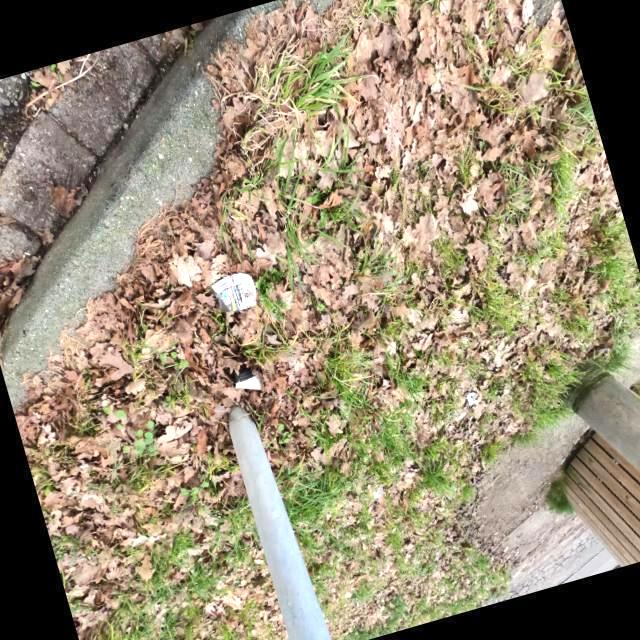Coffee Cup: (232, 364, 262, 391)
Paper: (208, 270, 258, 316)
